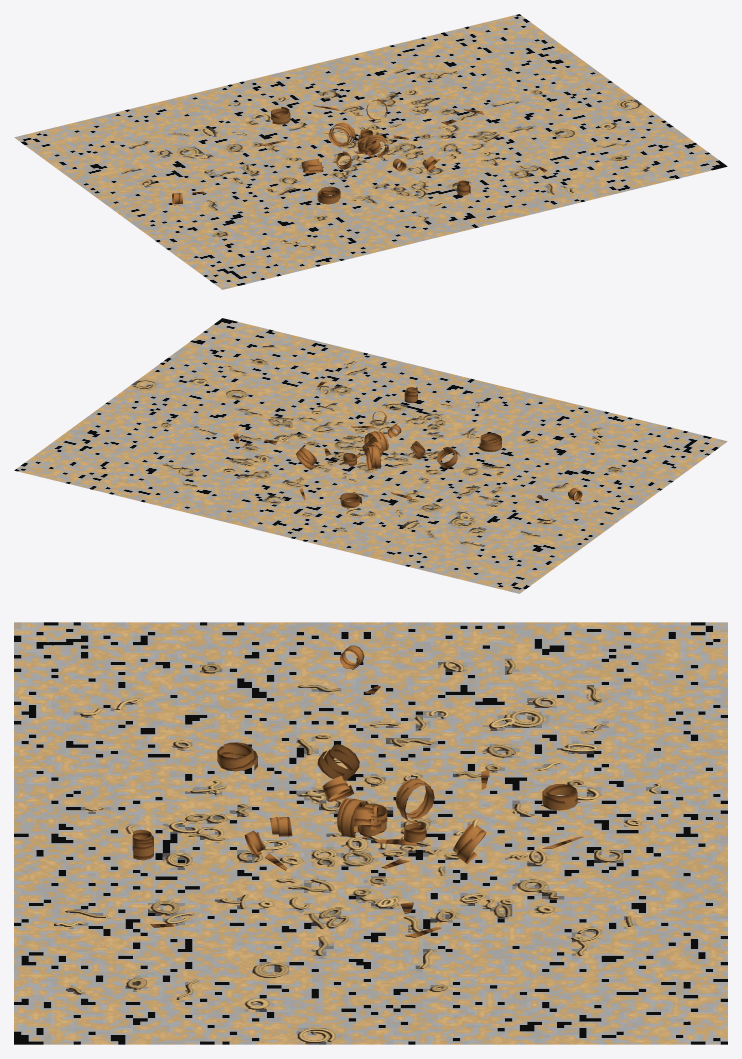
File: Shavings.glb
3 views of the same model, one above another, from view 1: azimuth 30°, elevation 25°; view 2: azimuth 150°, elevation 25°; view 3: azimuth 270°, elevation 25° (orthographic). The views are drawn at different scales.
Parts seen in each view (by area): view 1: Shavings_Decal, Shavings; view 2: Shavings_Decal, Shavings; view 3: Shavings_Decal, Shavings.
Boxes of the visible parts, x1,y1,x2,y2 form: Shavings_Decal: (14, 14, 727, 289); Shavings: (172, 99, 546, 205); Shavings_Decal: (14, 318, 727, 593); Shavings: (233, 381, 582, 509); Shavings_Decal: (14, 622, 727, 1044); Shavings: (132, 645, 583, 937).
Size of the model in its own units: 1.4 by 0.0636 by 1.
Materials: 2 (2 with a texture image).
